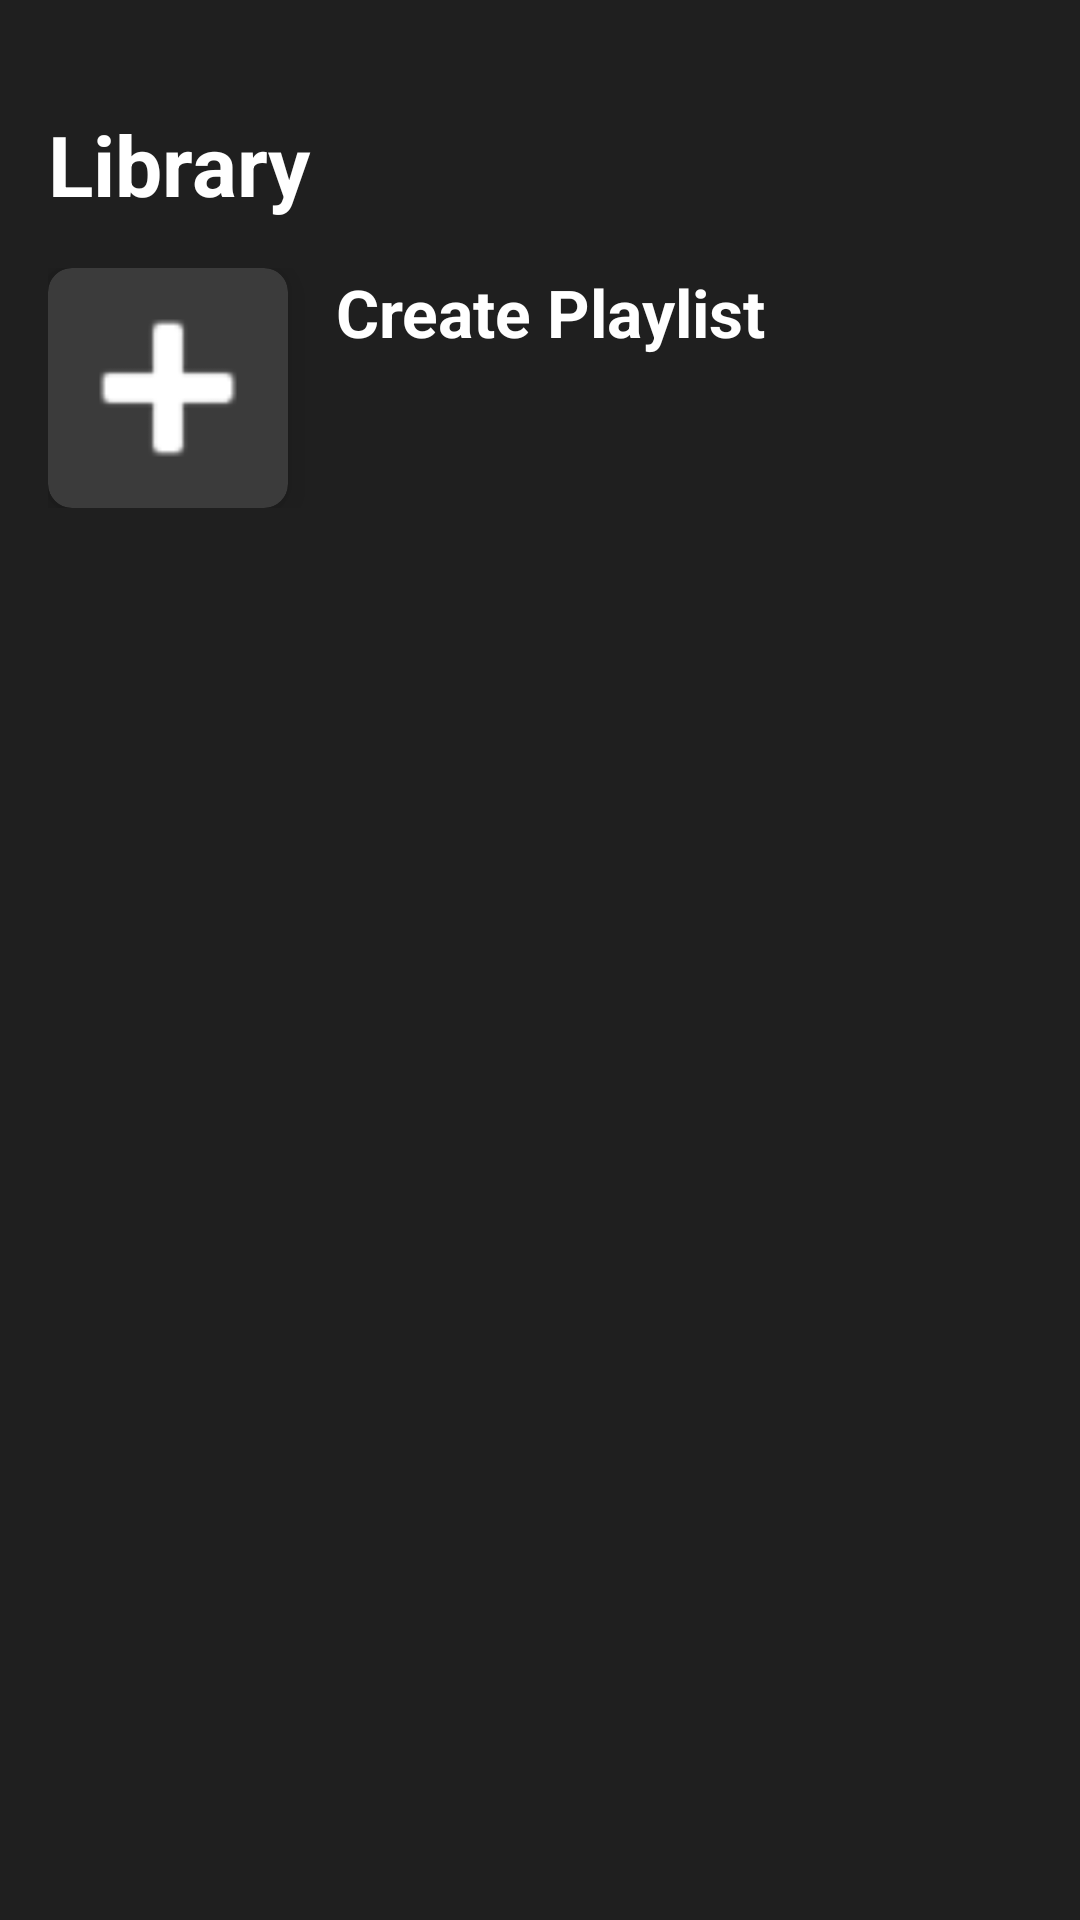

Named icons in this screenshot (1080*1920) and their bounding boxes, (x1, y1, x2, y2):
add: (48, 268, 288, 508)
